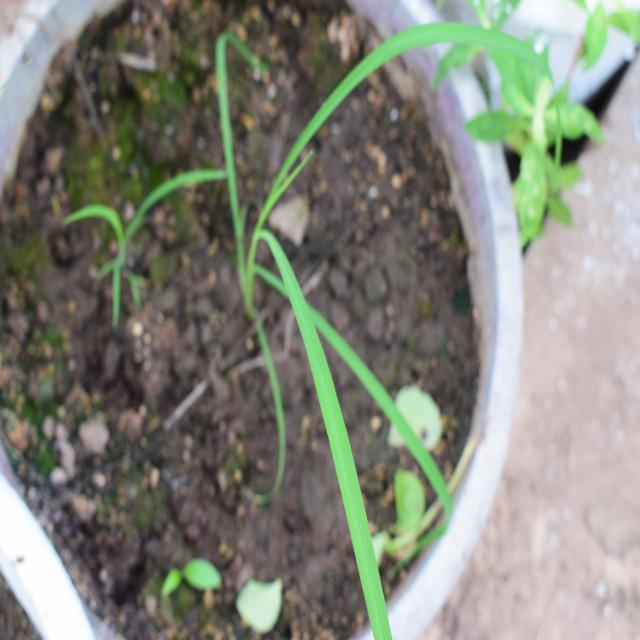barnyard_grass: (203, 0, 478, 634)
